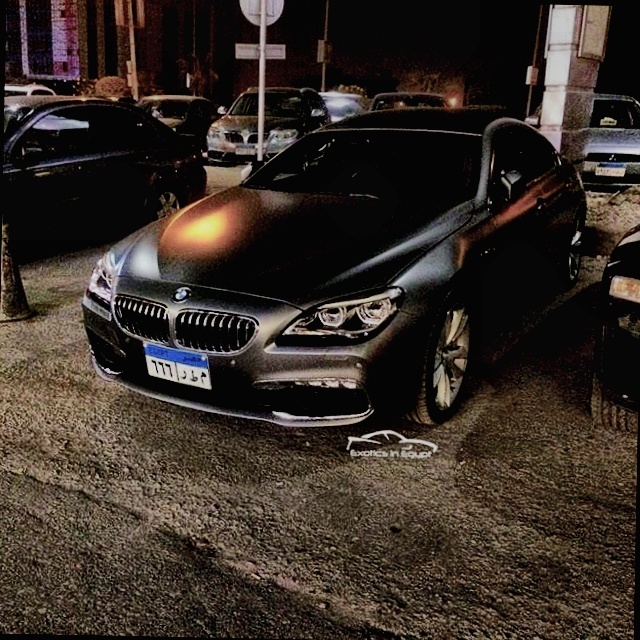License Plate: (139, 340, 217, 392)
